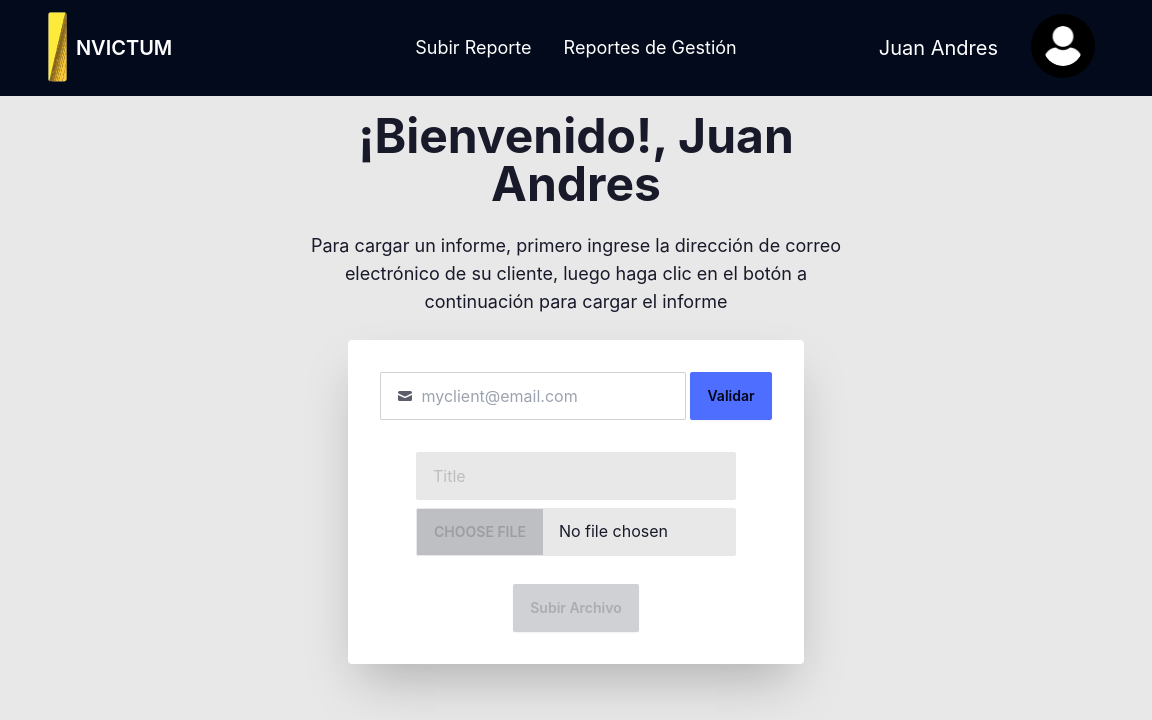
Test case: SubirReporte component › displays error message for invalid email
Click the button "Validar" at x=731, y=396, box x1=690 y1=372 x2=772 y2=420
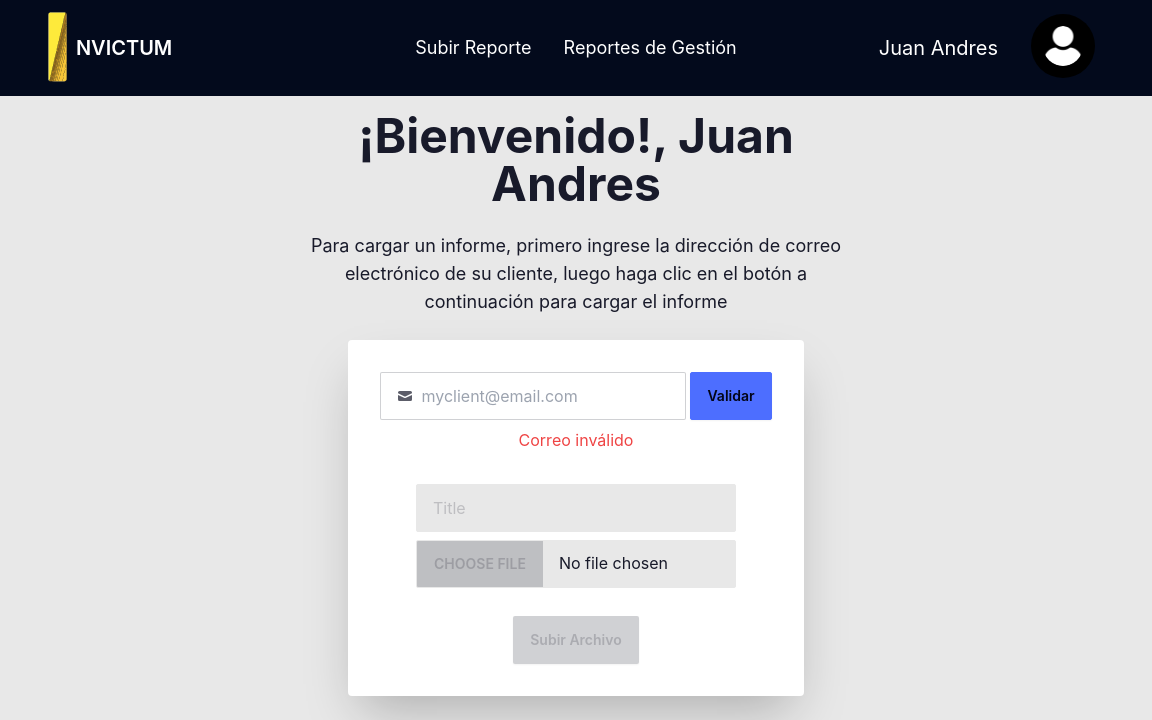
Now the text "Correo inválido" is shown, box x1=519 y1=430 x2=634 y2=450
